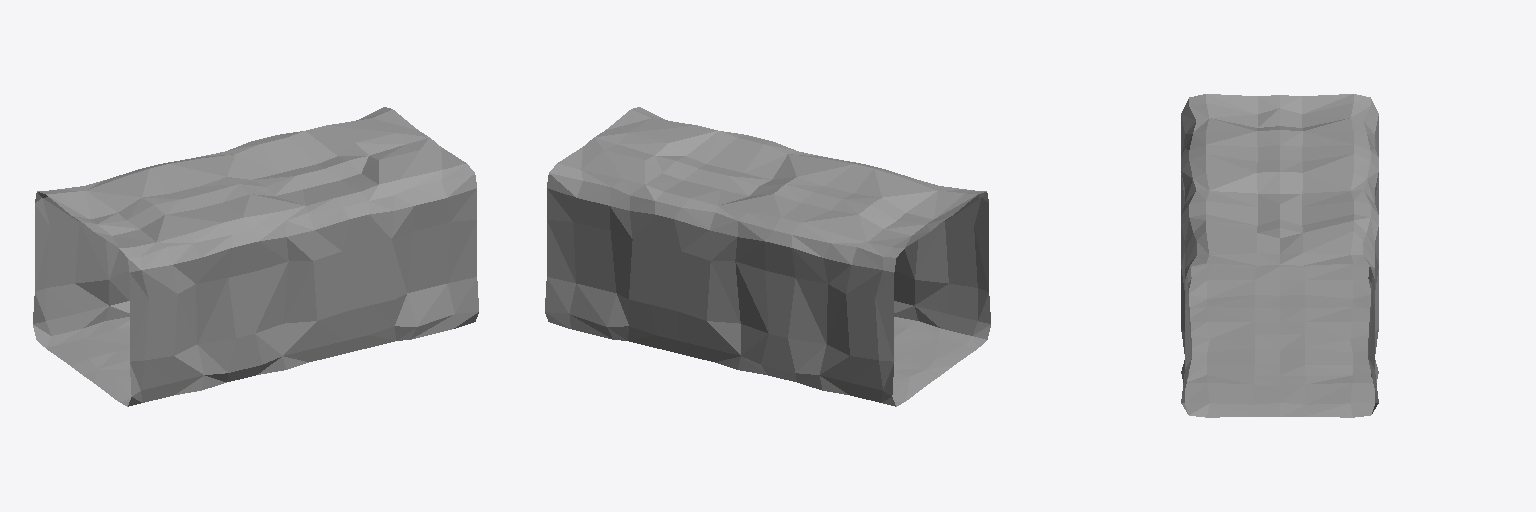
The model's file is Sharft_Straight.obj.
3 renders of one model, left to right at view 1: azimuth 30°, elevation 25°; view 2: azimuth 150°, elevation 25°; view 3: azimuth 270°, elevation 25°, orthographic.
Parts seen in each view (by area): view 1: Sharft_Straight; view 2: Sharft_Straight; view 3: Sharft_Straight.
Part boxes in pixels (x1,y1,x2,y2): Sharft_Straight: (33,107,478,406); Sharft_Straight: (545,107,990,406); Sharft_Straight: (1181,94,1378,417).
Bounding box in the file's own units: 5.98 × 2.54 × 2.95.